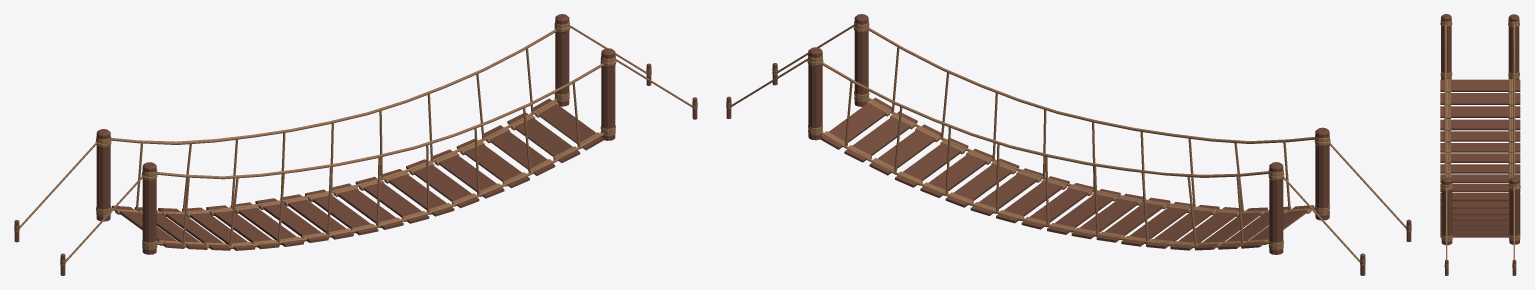
Rendered from HangBridge.fbx.
The picture shows the model from 3 angles, left to right: view 1: azimuth 30°, elevation 25°; view 2: azimuth 150°, elevation 25°; view 3: azimuth 270°, elevation 25°; orthographic projection. The views are drawn at different scales.
Parts seen in each view (by area): view 1: BridgeRope, BridgeHolding, BridgeHolding.002; view 2: BridgeRope, BridgeHolding, BridgeHolding.002; view 3: BridgeRope, BridgeHolding.002, BridgeHolding.
Boxes of the visible parts, x1=… form: BridgeRope: x1=111, y1=29, x2=604, y2=250; BridgeHolding: x1=14, y1=129, x2=157, y2=275; BridgeHolding.002: x1=554, y1=14, x2=697, y2=140; BridgeRope: x1=820, y1=27, x2=1315, y2=250; BridgeHolding: x1=1268, y1=127, x2=1411, y2=275; BridgeHolding.002: x1=726, y1=14, x2=869, y2=140; BridgeRope: x1=1440, y1=24, x2=1520, y2=237; BridgeHolding.002: x1=1441, y1=177, x2=1520, y2=275; BridgeHolding: x1=1440, y1=14, x2=1519, y2=79.
Bounding box in the file's own units: 8177 × 1504 × 1216.
